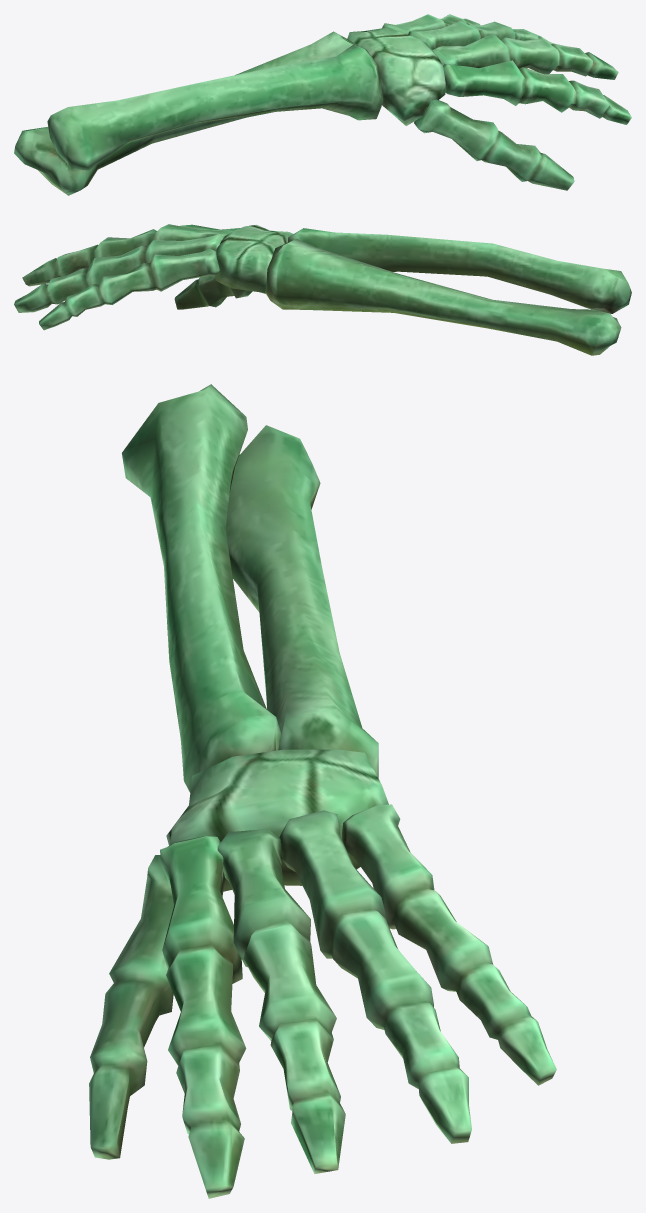
The picture shows the model from 3 angles, top to bottom: view 1: azimuth 30°, elevation 25°; view 2: azimuth 150°, elevation 25°; view 3: azimuth 270°, elevation 25°; orthographic projection. The views are drawn at different scales.
Visible parts, largest first — view 1: SM_U_MED_Skeleton_Human_lowerarm_l_LOD0; view 2: SM_U_MED_Skeleton_Human_lowerarm_l_LOD0; view 3: SM_U_MED_Skeleton_Human_lowerarm_l_LOD0.
Part boxes in pixels (x1,y1,x2,y2): SM_U_MED_Skeleton_Human_lowerarm_l_LOD0: [14, 14, 631, 195]; SM_U_MED_Skeleton_Human_lowerarm_l_LOD0: [14, 224, 631, 355]; SM_U_MED_Skeleton_Human_lowerarm_l_LOD0: [89, 384, 556, 1198].
Size of the model in its own units: 0.5298 by 0.1466 by 0.1851.
1 material, 1 textured.
